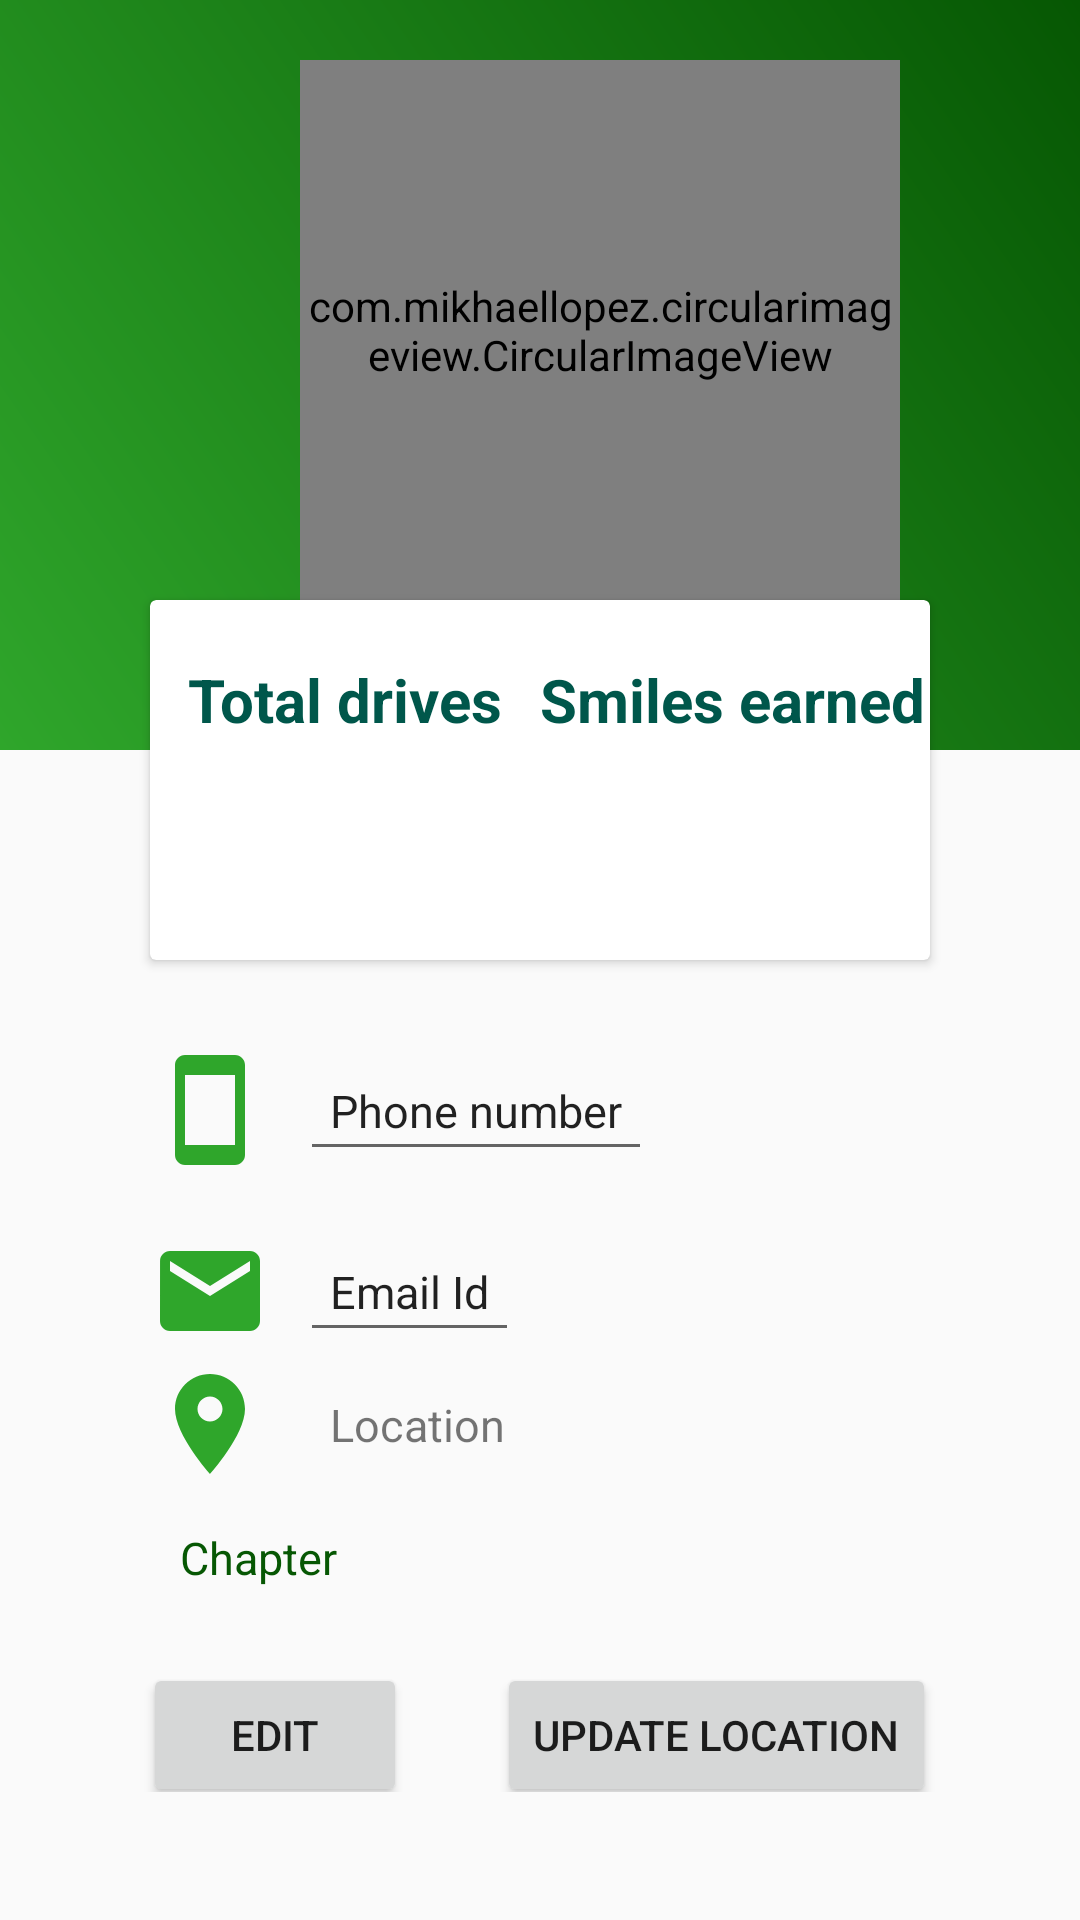

Screen size 1080 x 1920. Icon name, then its center in pixels as [x,y]:
smartphone: [210,1110]
